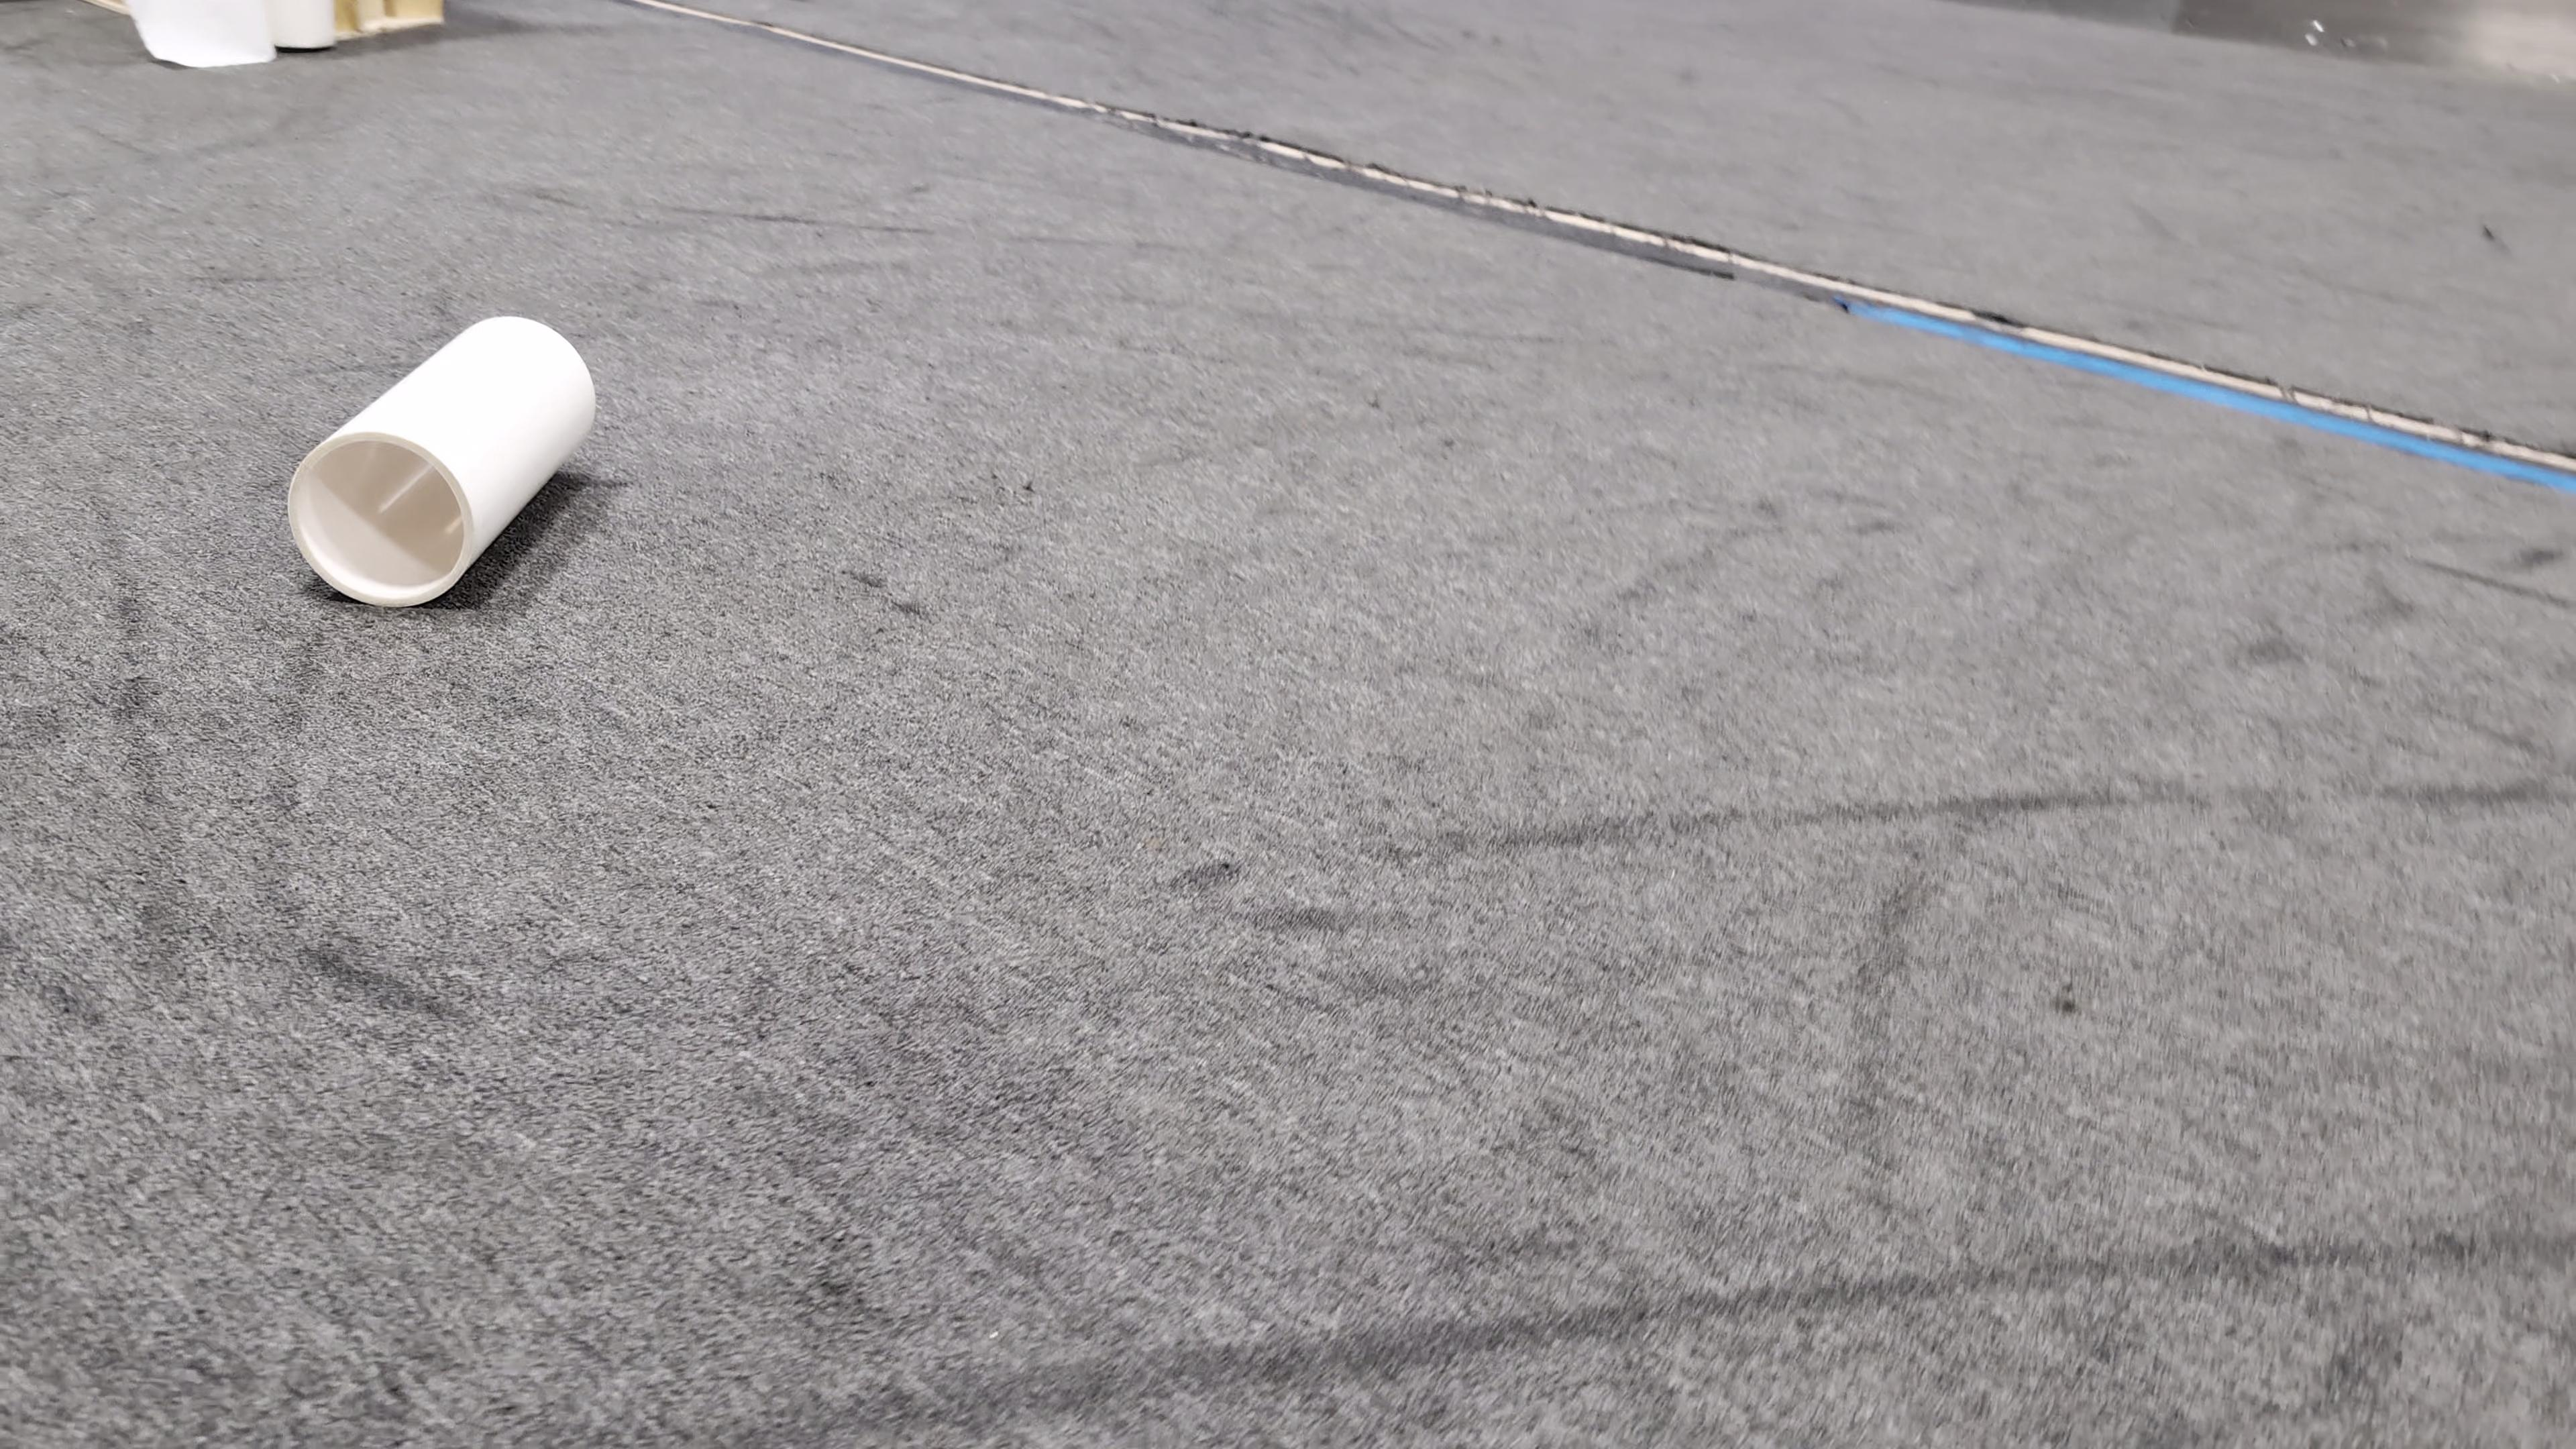coral: (290, 318, 596, 605)
